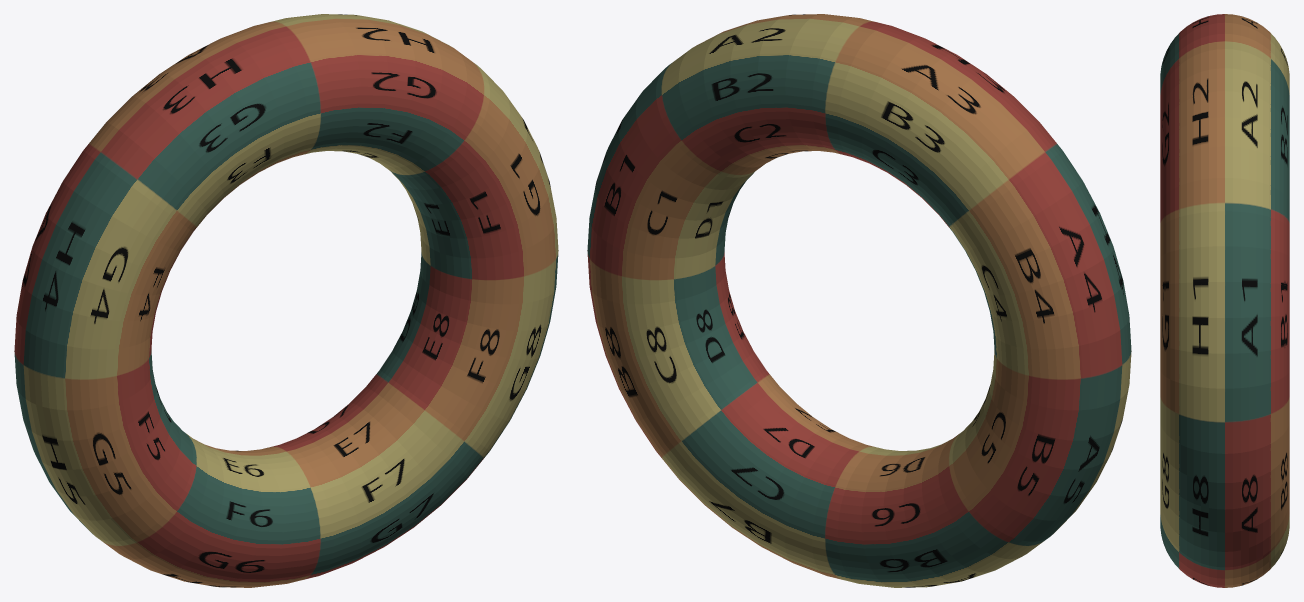
Rendered from texture_torus_R9_r10.glb.
The picture shows the model from 3 angles, left to right: view 1: azimuth 30°, elevation 25°; view 2: azimuth 150°, elevation 25°; view 3: azimuth 270°, elevation 25°; orthographic projection. The views are drawn at different scales.
Parts seen in each view (by area): view 1: world; view 2: world; view 3: world.
Boxes of the visible parts, box(x1,y1,x2,y2) form: world: box(14, 14, 558, 587); world: box(587, 14, 1131, 587); world: box(1160, 14, 1289, 587).
Size of the model in its own units: 20.67 by 20.63 by 4.66.
Materials: 1 (1 with a texture image).
